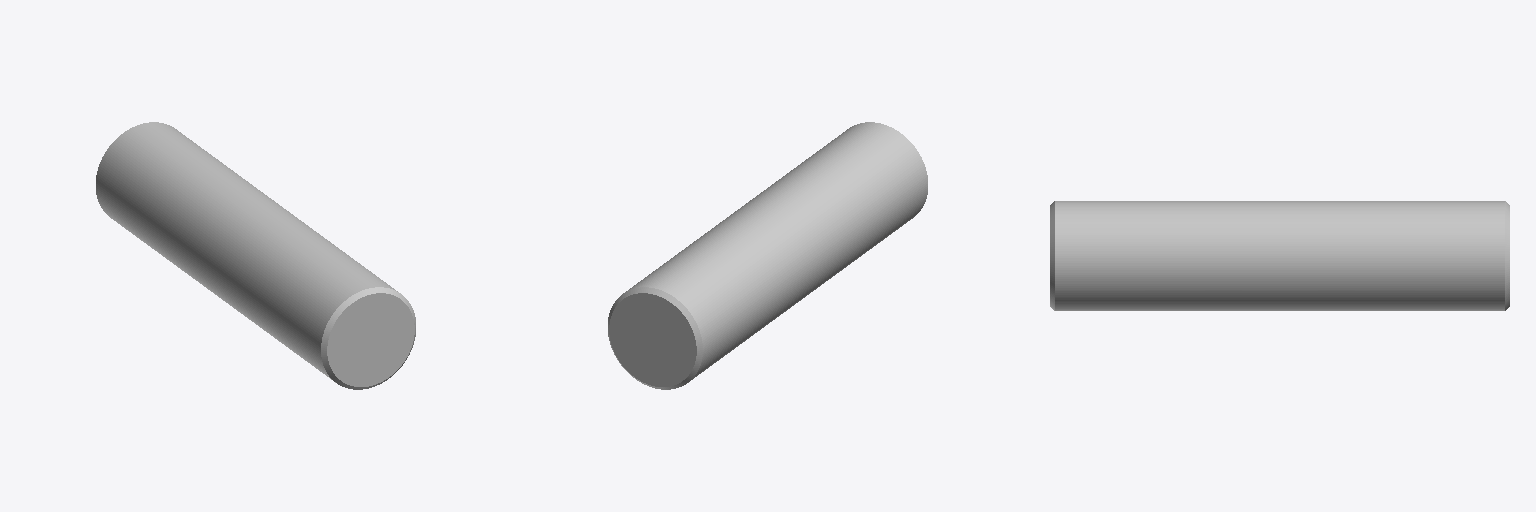
The model's file is industreal_round_peg_12mm.obj.
3 views of the same model, side by side, from view 1: azimuth 30°, elevation 25°; view 2: azimuth 150°, elevation 25°; view 3: azimuth 270°, elevation 25° (orthographic).
Bounding box in the file's own units: 0.012 × 0.012 × 0.05.